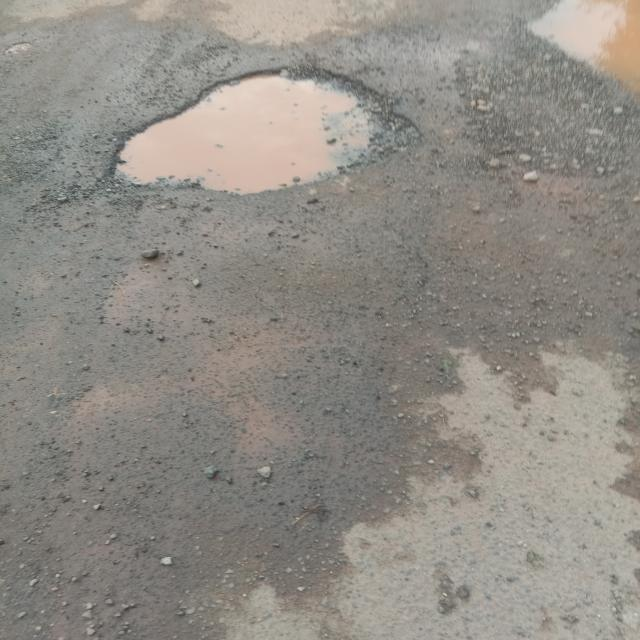potholes: (103, 63, 434, 195), (520, 3, 640, 103)
